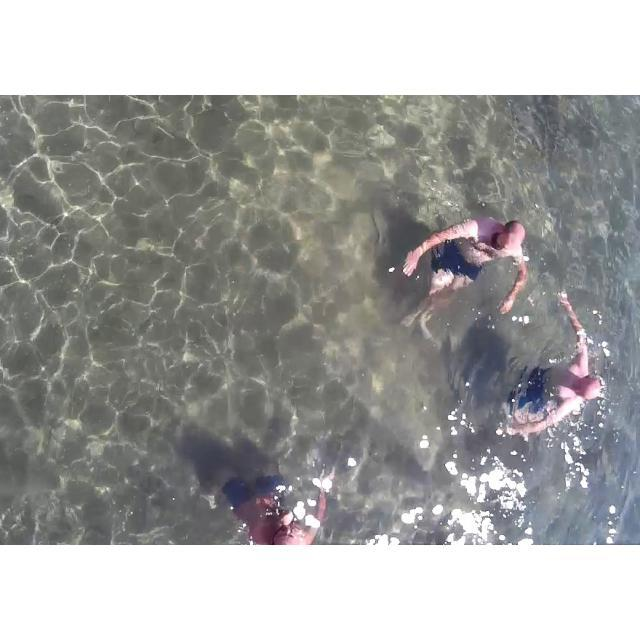human: (391, 182, 527, 355), (509, 264, 605, 457)
